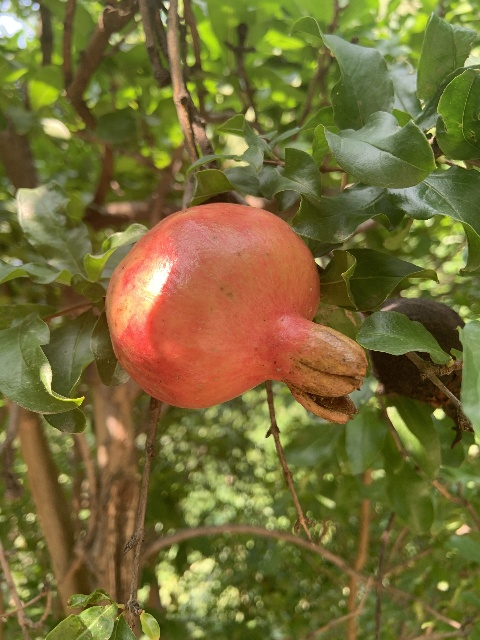ripe: (103, 201, 369, 424)
